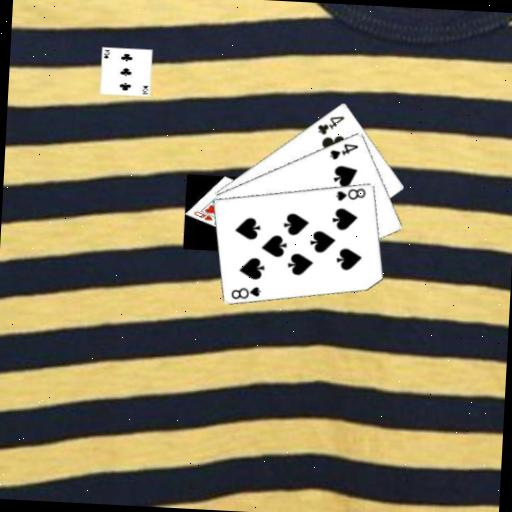4C: (314, 111, 346, 138)
4S: (327, 140, 361, 162)
8S: (333, 184, 368, 204), (228, 282, 263, 302)
